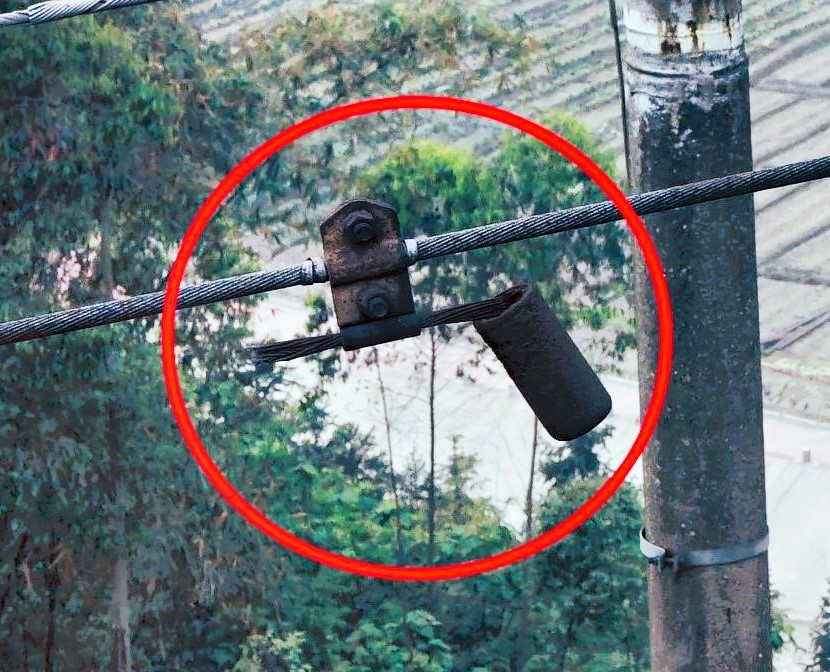Damage of shockproof hammer: (230, 188, 624, 450)
